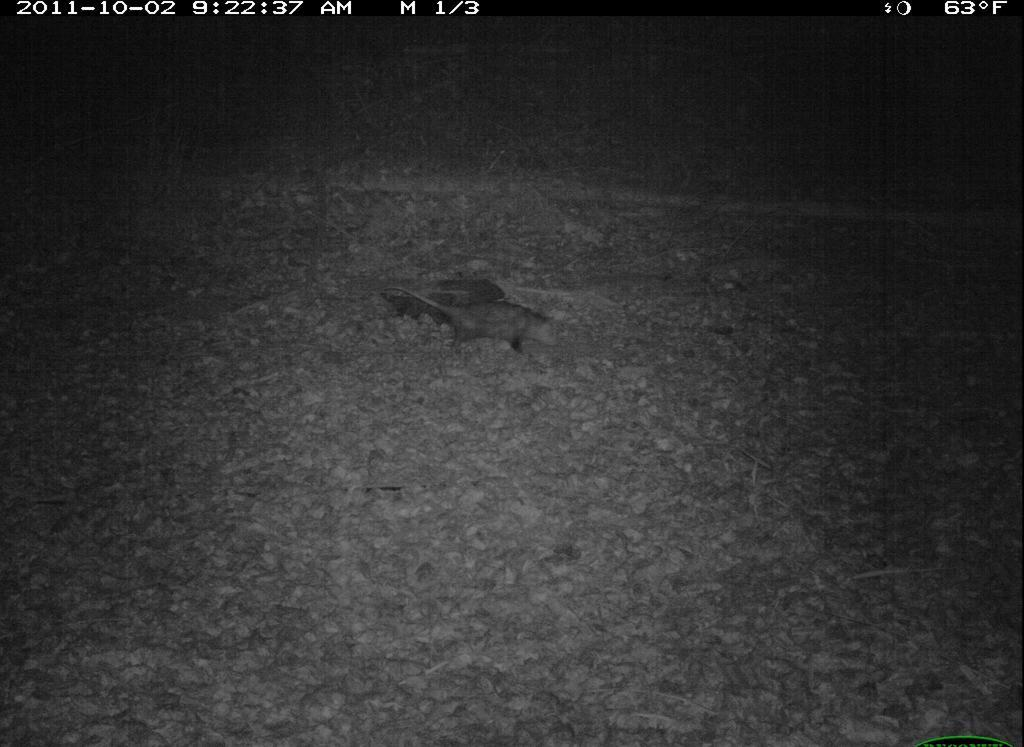opossum: (373, 274, 583, 377)
